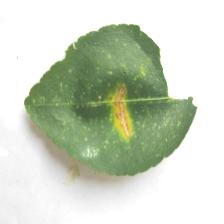canker: (97, 69, 143, 148)
